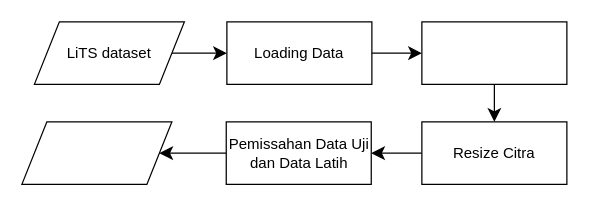
Some shapes in this 589 by 206 pixel diagram are drawn without their labels. The shapes that lost their labels are listed below. From the top down, each one's centre as x and y in pixels, then its label:
At pixel 494 52: "Normalisasi Hounsfield Unit (HU)".
At pixel 96 152: "Data Uji dan Data Latih".
